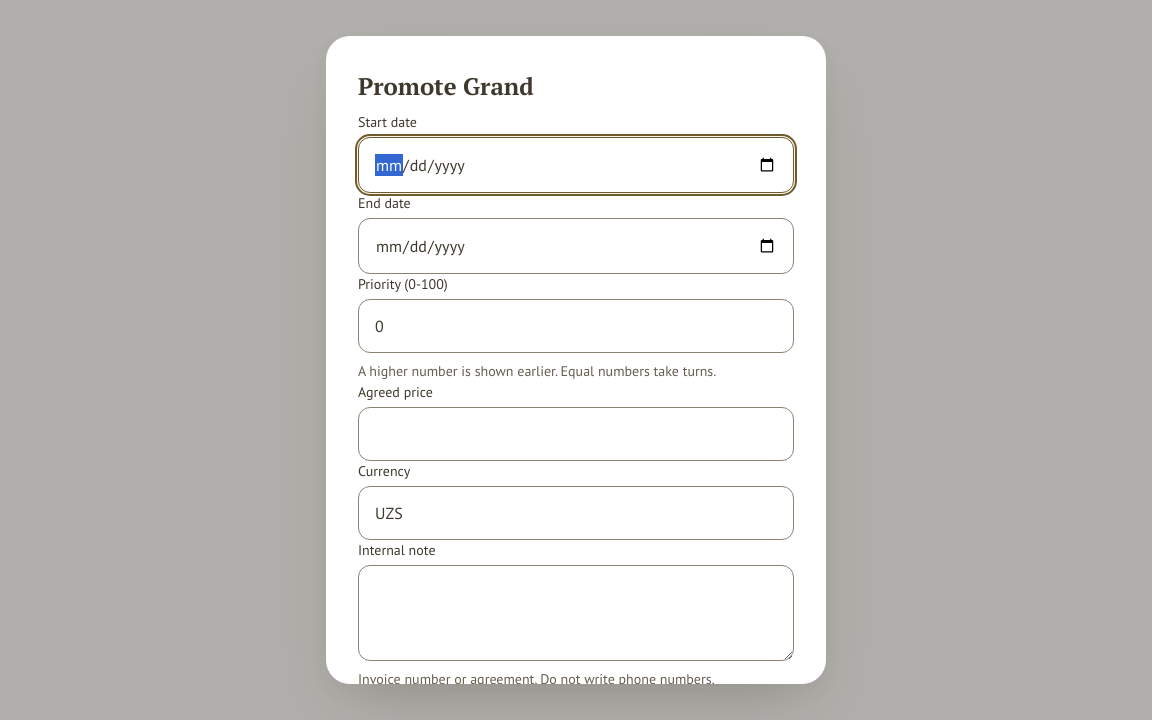
CreatePromotionDialog › an end date before the start date is reported with the start date
The width and height of the screenshot is (1152, 720).
Step 1. Type "2026-11-10" into the date field labelled "Start date" → (576, 165), box [358,137,794,193]
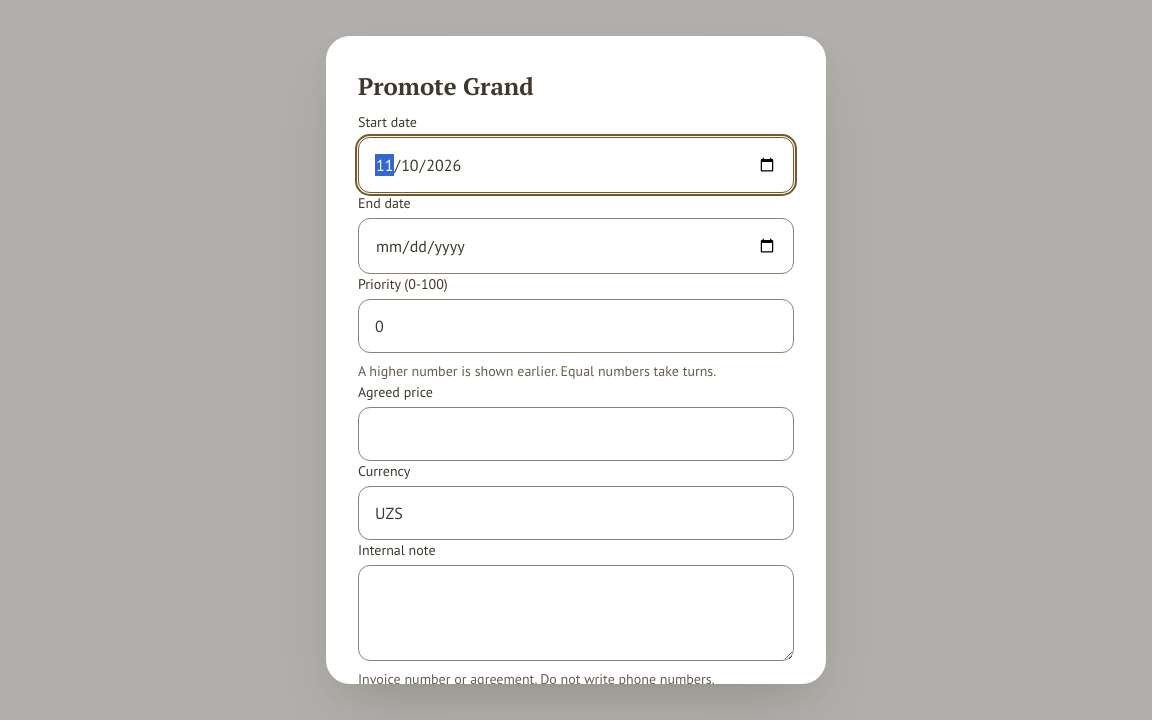
Step 2. Type "2026-11-01" into the date field labelled "End date" → (576, 246), box [358,218,794,274]
(page scrolled)
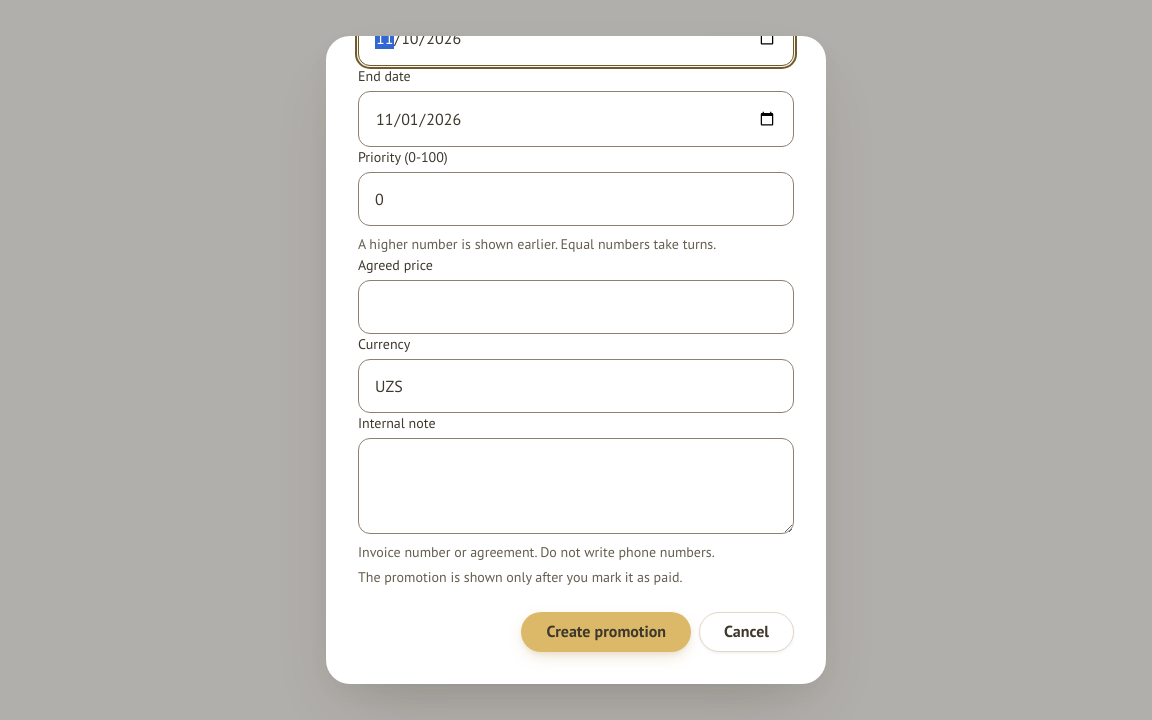
Step 3. Click the button "Create promotion" → (606, 632), box [521,612,691,652]
(page scrolled)
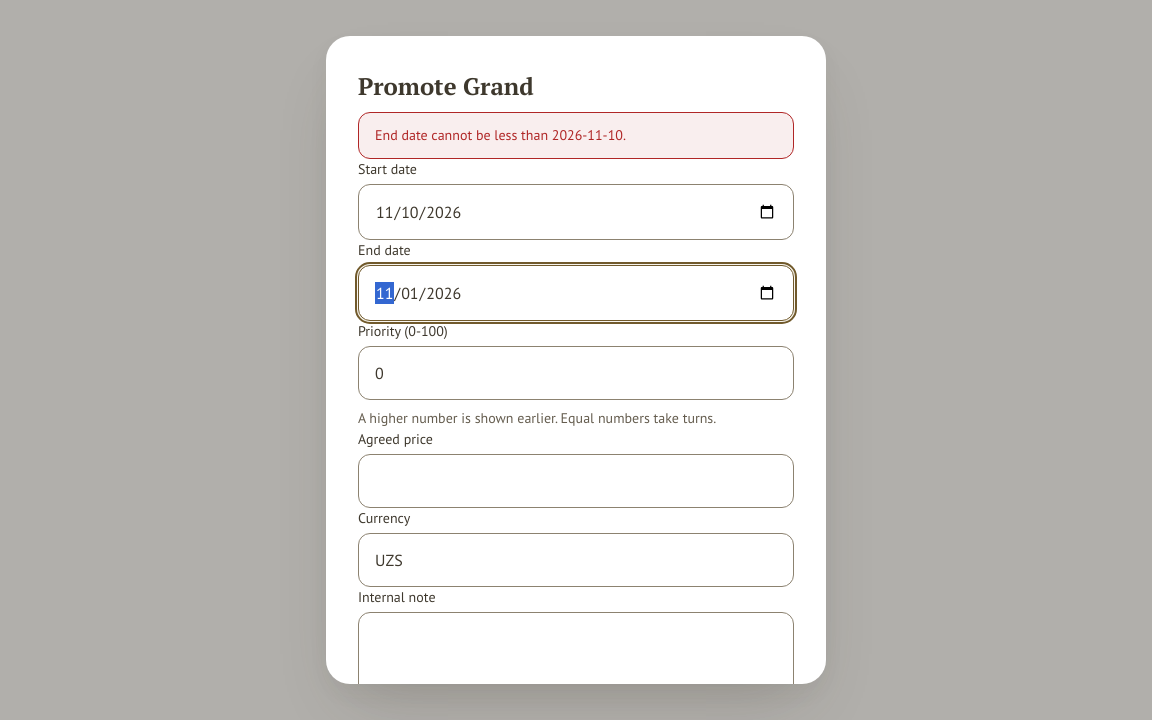
Now the message reads "End date cannot be less than 2026-11-10.", box [375,126,626,144]
